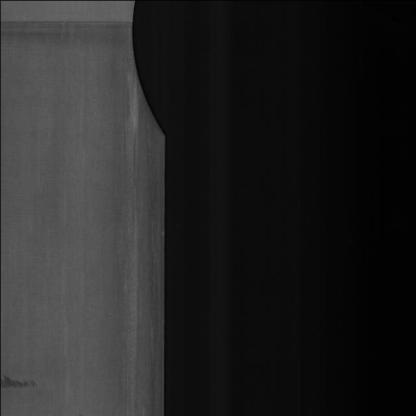crescent_gap: (122, 0, 174, 148)
welding_line: (0, 7, 140, 36)
